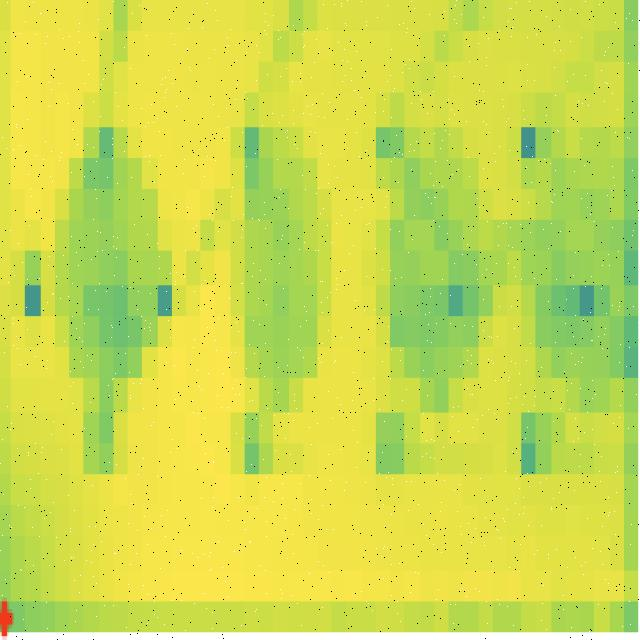Concrete: (220, 98, 326, 436)
Glass: (51, 108, 168, 414)
Metal: (360, 91, 488, 415)
Wood: (506, 91, 636, 407)
